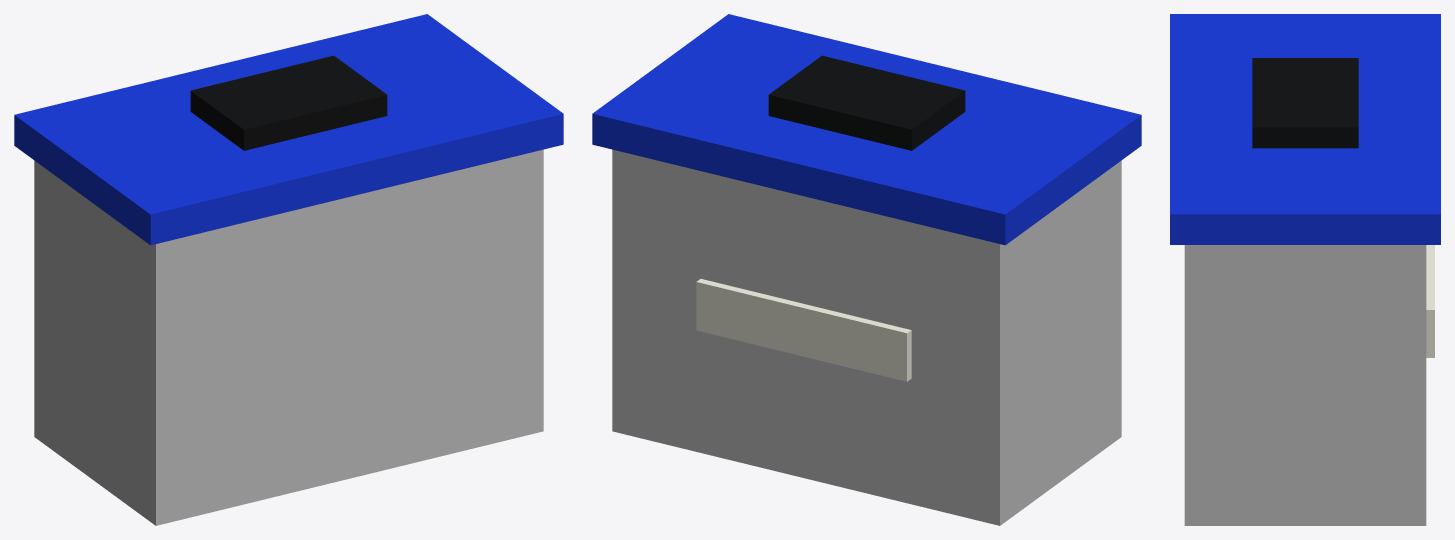
Rendered from recycling_container.obj.
3 renders of one model, left to right at view 1: azimuth 30°, elevation 25°; view 2: azimuth 150°, elevation 25°; view 3: azimuth 270°, elevation 25°, orthographic.
Visible parts, largest first — view 1: recycling_container; view 2: recycling_container; view 3: recycling_container.
Part boxes in pixels (x1,y1,x2,y2): recycling_container: (14, 14, 563, 525); recycling_container: (592, 14, 1141, 525); recycling_container: (1170, 14, 1440, 525).
Bounding box in the file's own units: 4.9 × 3.87 × 2.8.
